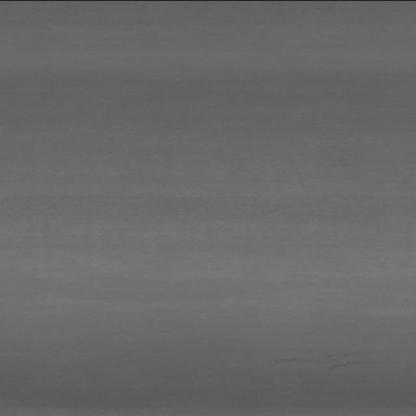water_spot: (250, 346, 367, 370)
